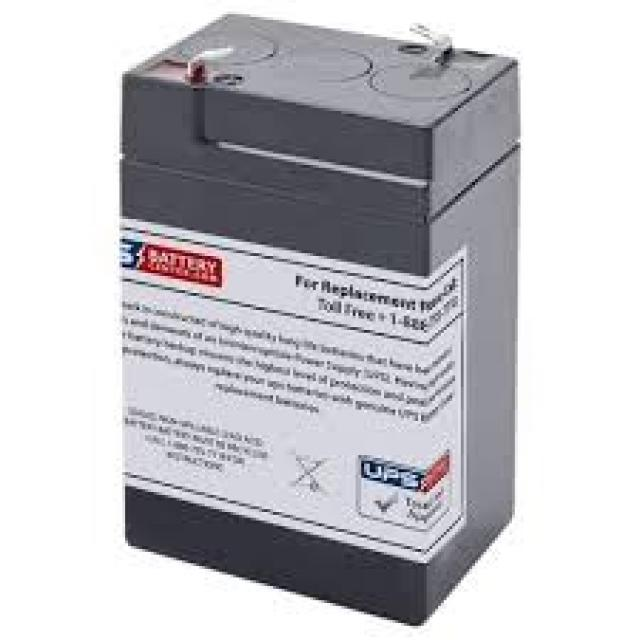non-organic waste: (113, 11, 523, 628)
